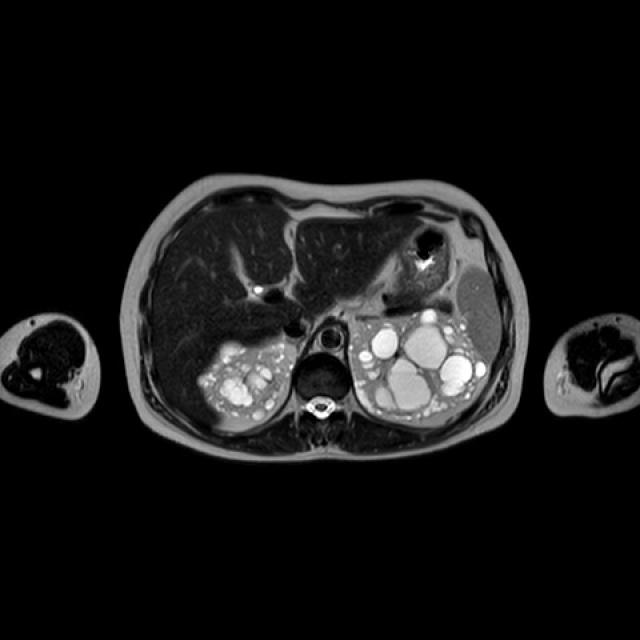sag: (203, 339, 299, 421)
sol: (348, 307, 489, 423)
